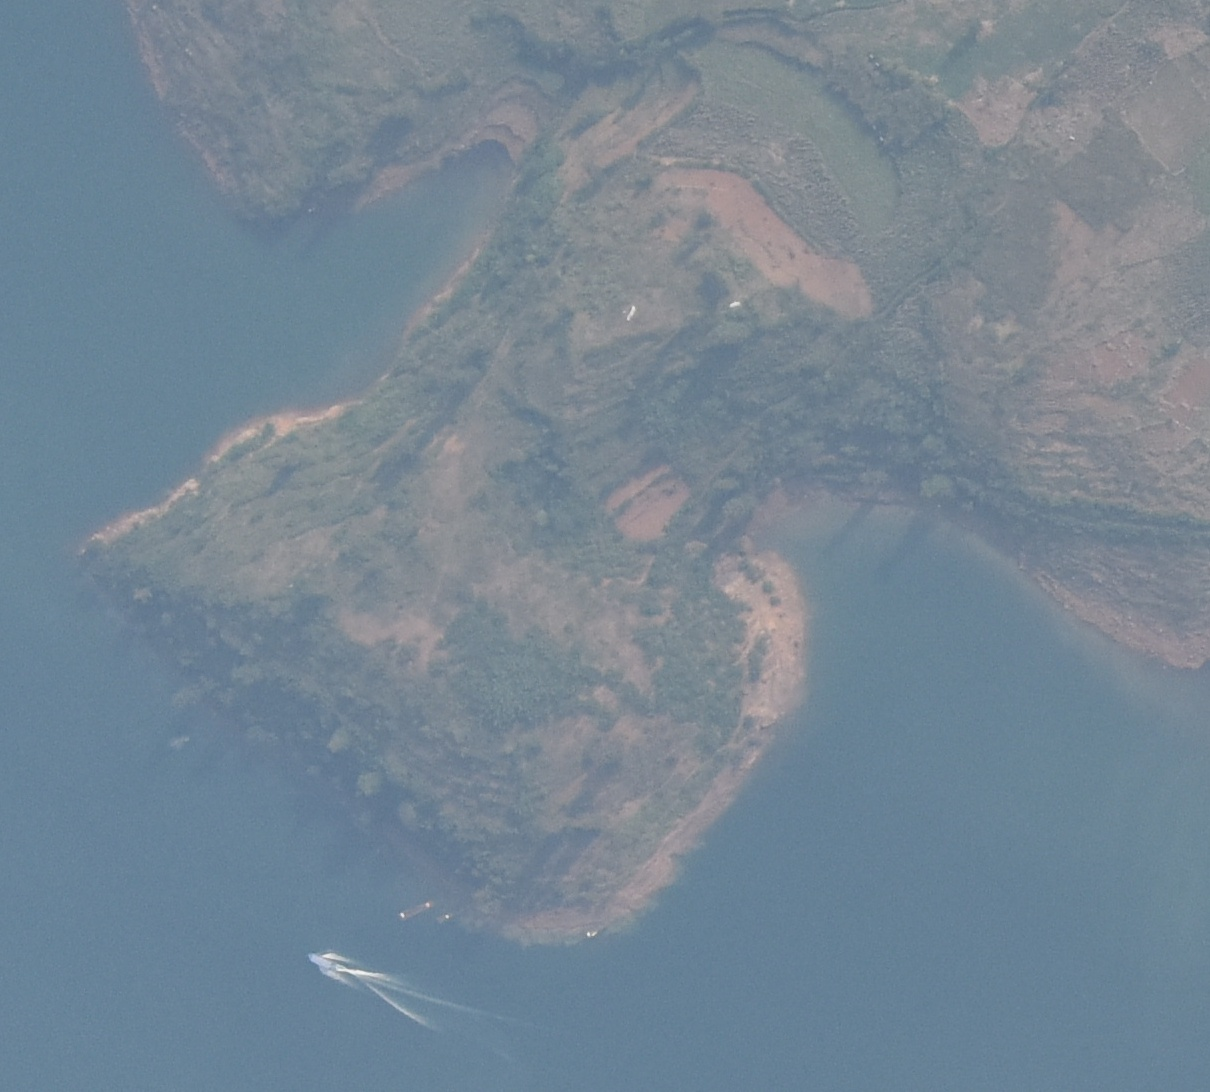ship: (397, 896, 434, 922), (302, 949, 334, 971)
